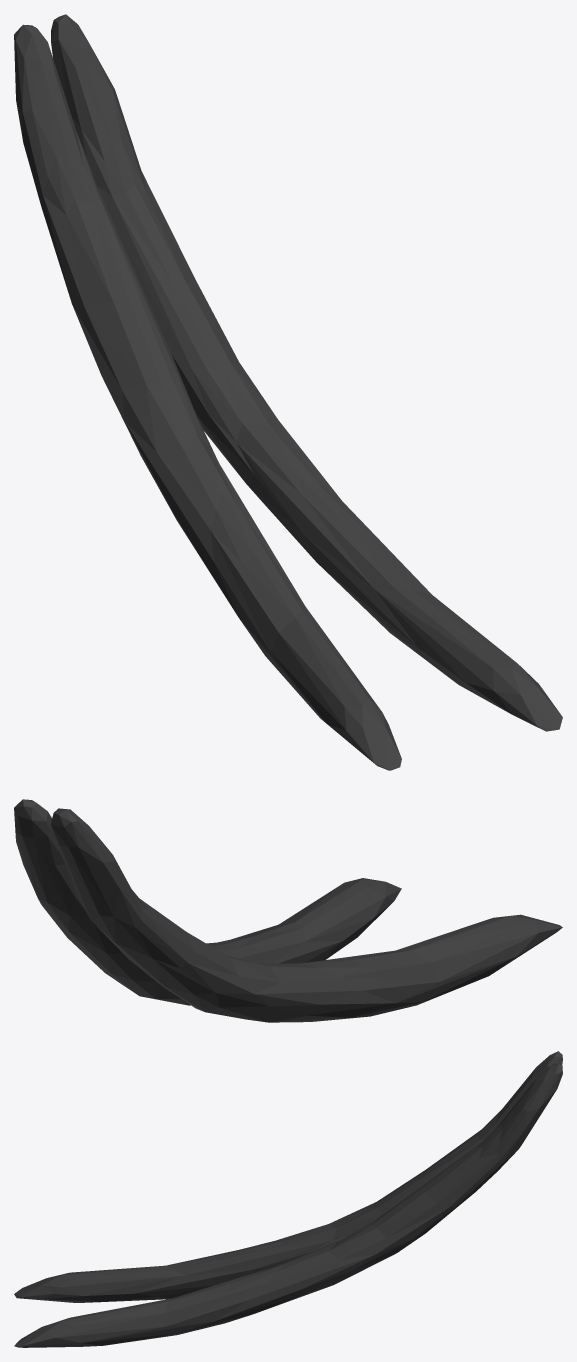
The model's file is m_intertransversarii_dorsales_cauda.glb.
3 views of the same model, one above another, from view 1: azimuth 30°, elevation 25°; view 2: azimuth 150°, elevation 25°; view 3: azimuth 270°, elevation 25° (orthographic). The views are drawn at different scales.
Visible parts, largest first — view 1: m_intertransversarii_dorsales_cauda; view 2: m_intertransversarii_dorsales_cauda; view 3: m_intertransversarii_dorsales_cauda.
Boxes of the visible parts, bbox=[...] form: m_intertransversarii_dorsales_cauda: bbox=[14, 14, 562, 770]; m_intertransversarii_dorsales_cauda: bbox=[14, 799, 562, 1022]; m_intertransversarii_dorsales_cauda: bbox=[14, 1051, 562, 1347].
Bounding box in the file's own units: 0.000711 × 0.00148 × 0.00278.
Materials: 1 (1 with a texture image).
